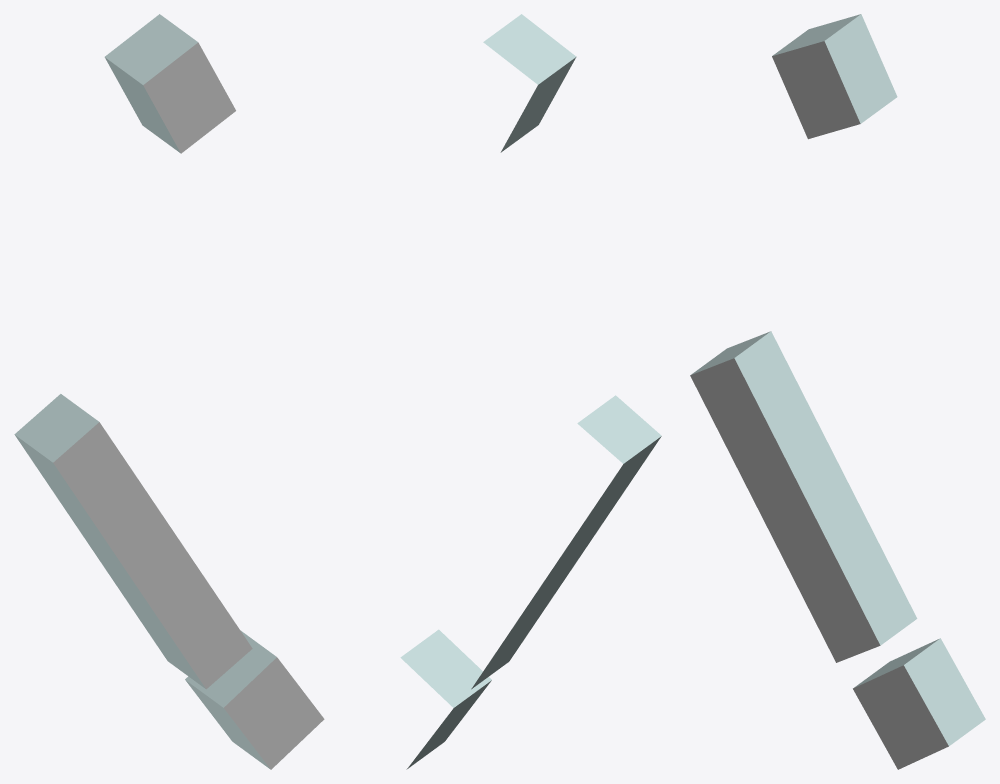
3 renders of one model, left to right at view 1: azimuth 30°, elevation 25°; view 2: azimuth 150°, elevation 25°; view 3: azimuth 330°, elevation 25°, orthographic. The views are drawn at different scales.
Visible parts, largest first — view 1: 0_2_2_3_1_1_1_2_2; view 2: 0_2_2_3_1_1_1_2_2; view 3: 0_2_2_3_1_1_1_2_2.
Part boxes in pixels (x1=…): 0_2_2_3_1_1_1_2_2: x1=14, y1=14, x2=324, y2=769; 0_2_2_3_1_1_1_2_2: x1=400, y1=14, x2=661, y2=769; 0_2_2_3_1_1_1_2_2: x1=690, y1=14, x2=985, y2=769.
Bounding box in the file's own units: 12.16 × 31.98 × 3.17.
